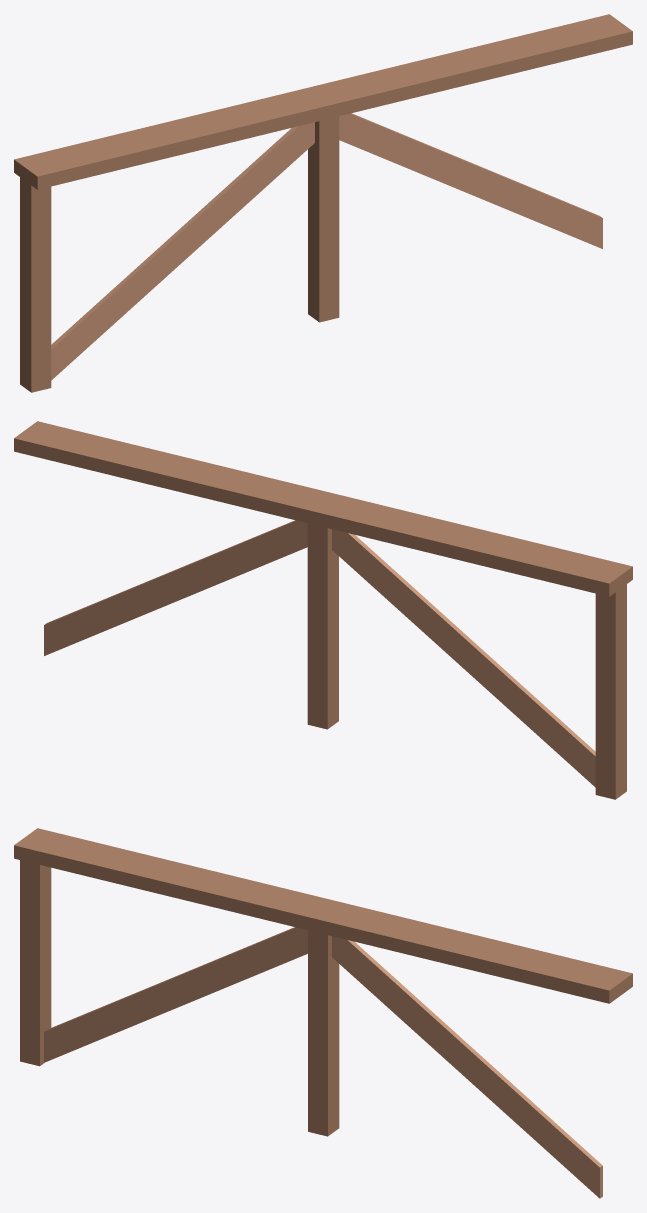
The model's file is CandyFence.fbx.
3 views of the same model, one above another, from view 1: azimuth 30°, elevation 25°; view 2: azimuth 150°, elevation 25°; view 3: azimuth 330°, elevation 25° (orthographic).
Parts seen in each view (by area): view 1: Fence; view 2: Fence; view 3: Fence.
Boxes of the visible parts, bbox=[...] form: Fence: bbox=[14, 14, 632, 392]; Fence: bbox=[14, 421, 632, 799]; Fence: bbox=[14, 828, 632, 1198].
Size of the model in its own units: 3 by 1.06 by 0.2051.
